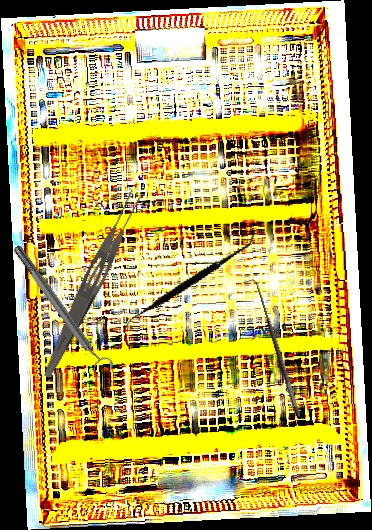Dressing Forceps: (39, 187, 146, 383)
Fixation Ring: (7, 239, 117, 381)
Hook Surgical: (242, 275, 303, 421)
Spatula Surgical: (121, 196, 257, 366)
